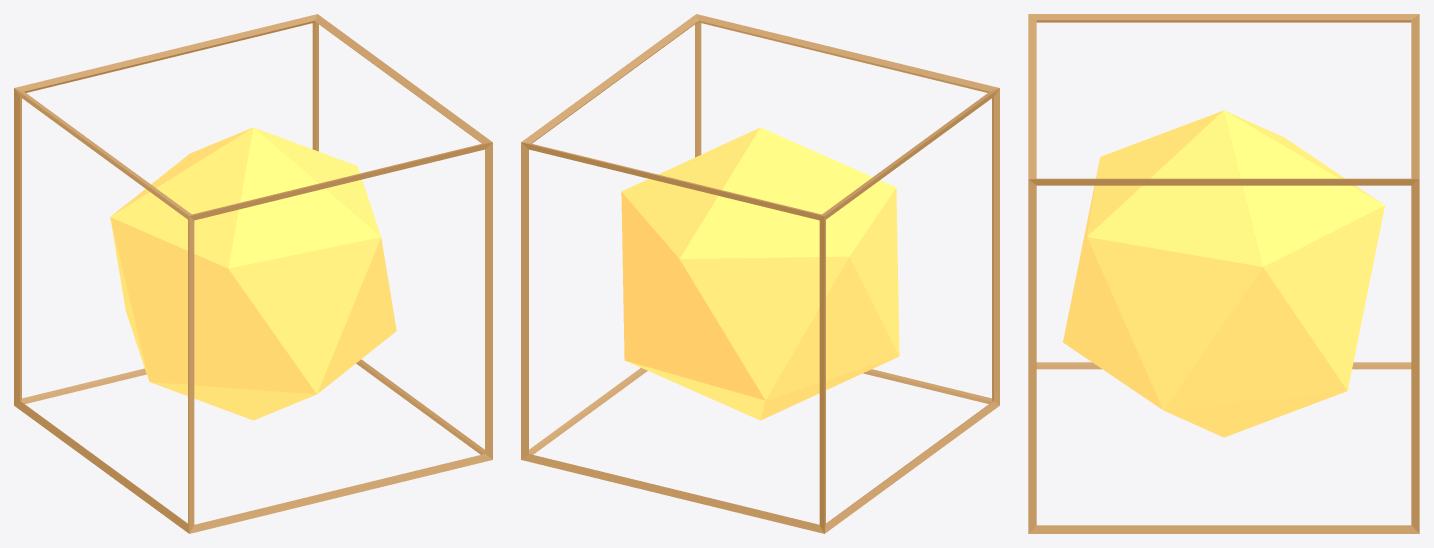
The model's file is 11_memory_world_matrix.glb.
3 views of the same model, side by side, from view 1: azimuth 30°, elevation 25°; view 2: azimuth 150°, elevation 25°; view 3: azimuth 270°, elevation 25° (orthographic). The views are drawn at different scales.
Visible parts, largest first — view 1: World_matrix_MatrixCore, World_matrix_MatrixCage; view 2: World_matrix_MatrixCore, World_matrix_MatrixCage; view 3: World_matrix_MatrixCore, World_matrix_MatrixCage.
Part boxes in pixels (box(x1,y1,x2,y2)): World_matrix_MatrixCore: box(110, 127, 396, 420); World_matrix_MatrixCage: box(14, 14, 492, 533); World_matrix_MatrixCore: box(621, 127, 899, 420); World_matrix_MatrixCage: box(521, 14, 999, 533); World_matrix_MatrixCore: box(1063, 110, 1384, 437); World_matrix_MatrixCage: box(1028, 14, 1419, 533).
Bounding box in the file's own units: 0.975 × 0.975 × 0.975.
